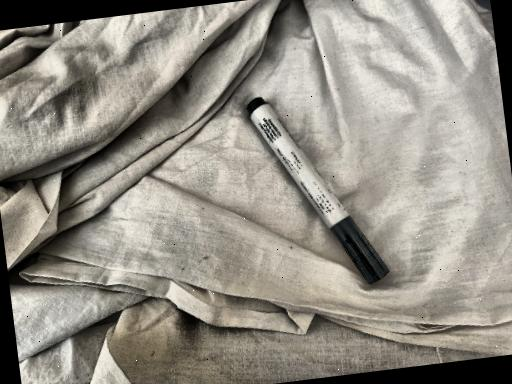marcador negro: (247, 97, 389, 283)
